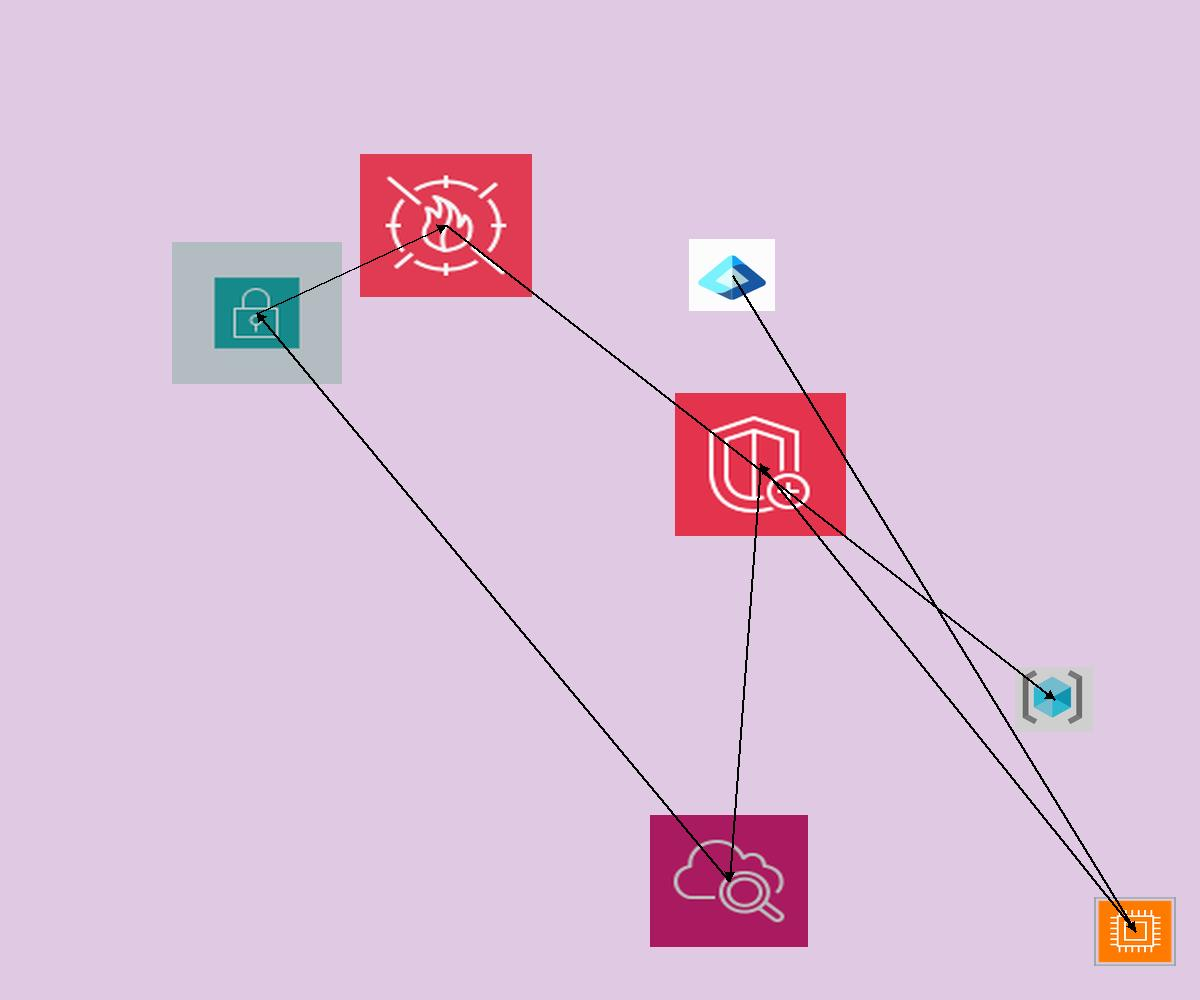AWS-Category_Compute: (1094, 897, 1176, 966)
AWS-CloudWatch: (650, 815, 808, 947)
AWS-Private-subnet: (172, 242, 342, 384)
AWS-Shield: (675, 393, 846, 536)
AWS-WAF: (360, 154, 532, 297)
Azure_microsoft_entra: (689, 239, 775, 311)
Azure_resource_group: (1015, 667, 1093, 732)
